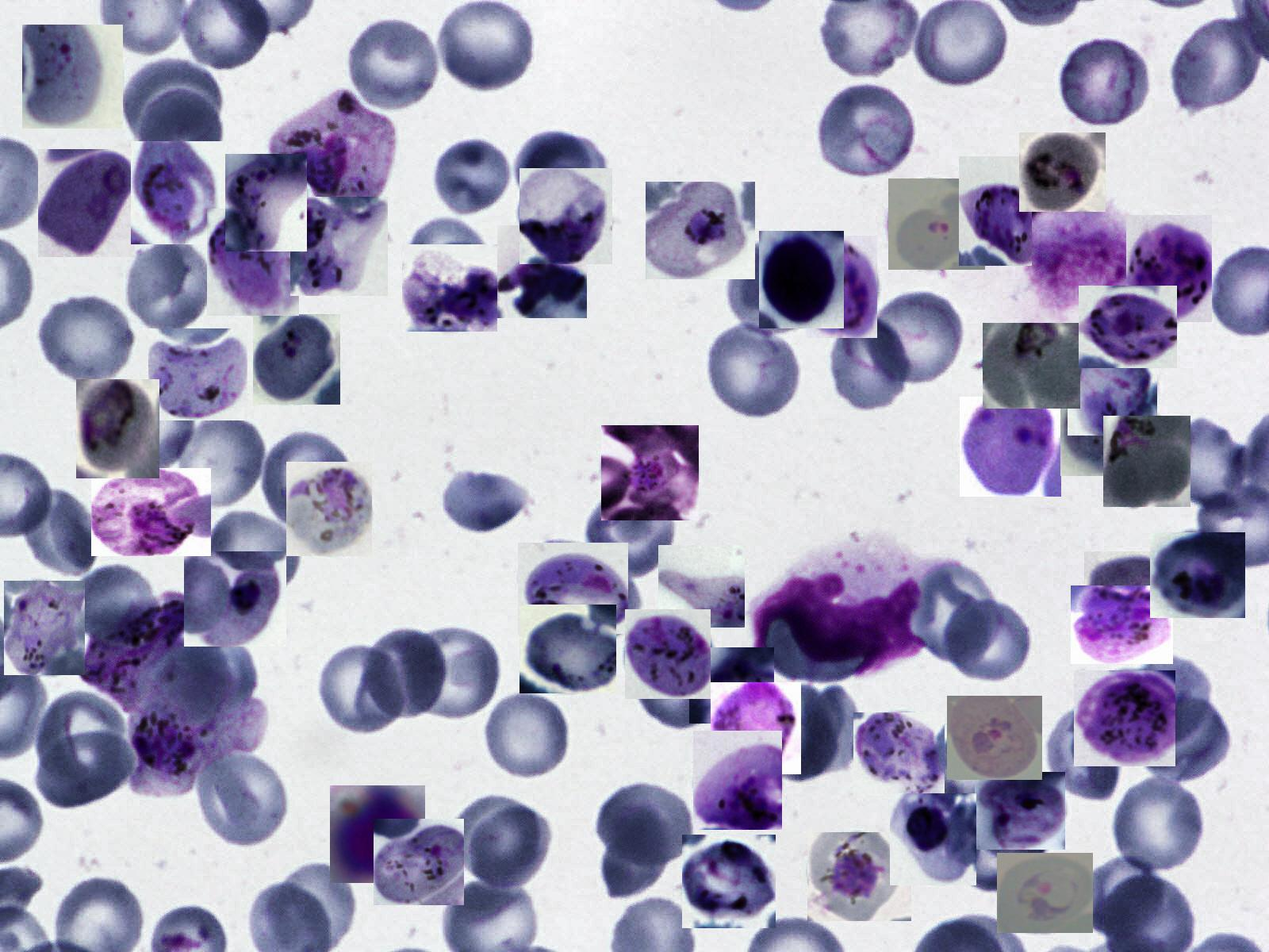Infected: (751, 536, 926, 677), (266, 86, 397, 206), (79, 587, 198, 710), (129, 697, 266, 797), (646, 182, 755, 279), (91, 469, 211, 557), (22, 25, 123, 129), (38, 149, 135, 257), (960, 397, 1061, 497), (518, 543, 628, 634), (207, 209, 299, 316), (184, 551, 286, 647), (132, 141, 227, 244), (290, 197, 388, 296), (1074, 670, 1175, 766), (601, 425, 699, 520), (807, 832, 911, 921), (331, 785, 425, 883), (1126, 215, 1212, 322), (148, 328, 247, 420), (519, 168, 612, 264), (888, 178, 985, 270), (693, 731, 782, 830), (683, 835, 776, 928), (1060, 386, 1156, 476), (1068, 340, 1157, 436), (519, 605, 616, 693), (711, 682, 802, 774), (497, 225, 587, 318), (402, 244, 497, 332), (983, 323, 1080, 409), (759, 232, 844, 329), (76, 379, 159, 478), (1150, 532, 1245, 618), (286, 462, 372, 556), (1084, 551, 1180, 635), (1071, 585, 1173, 664), (1079, 286, 1177, 368), (959, 156, 1032, 266), (947, 696, 1042, 780), (225, 154, 307, 251), (253, 314, 340, 405), (1103, 416, 1190, 507), (890, 793, 976, 885), (374, 819, 464, 905), (625, 609, 711, 699), (853, 712, 945, 796), (997, 853, 1093, 933), (4, 581, 85, 675), (805, 236, 877, 338), (658, 545, 745, 628), (975, 772, 1065, 850), (1019, 132, 1106, 212), (689, 647, 774, 724)
Uninfected: (33, 694, 138, 804), (704, 318, 803, 424), (449, 791, 552, 889), (436, 0, 539, 97), (148, 631, 262, 718), (33, 292, 138, 386), (1150, 413, 1252, 509), (907, 557, 998, 664), (408, 622, 504, 723), (347, 13, 443, 113), (817, 82, 918, 177), (128, 51, 217, 158), (171, 413, 268, 511), (199, 507, 301, 600), (309, 639, 411, 732), (869, 289, 965, 386), (1109, 777, 1206, 873), (630, 632, 723, 732), (261, 427, 352, 528), (510, 127, 613, 216), (1168, 15, 1263, 110), (1136, 693, 1233, 785), (1121, 651, 1211, 749), (1074, 845, 1167, 939), (197, 754, 287, 849), (1041, 701, 1125, 802), (104, 380, 198, 470), (730, 236, 815, 335), (542, 562, 643, 645), (358, 624, 448, 717), (126, 91, 224, 175), (952, 807, 1048, 892), (583, 487, 675, 575), (830, 313, 911, 412), (1059, 34, 1147, 125), (599, 781, 692, 867), (940, 596, 1034, 681), (912, 0, 1006, 85), (482, 691, 570, 780), (593, 800, 672, 896), (430, 131, 514, 221), (439, 461, 534, 539), (402, 218, 489, 302), (127, 241, 208, 331), (268, 865, 358, 946), (19, 489, 98, 580), (925, 732, 1013, 812), (763, 685, 834, 782), (71, 564, 156, 643), (807, 682, 862, 774)
